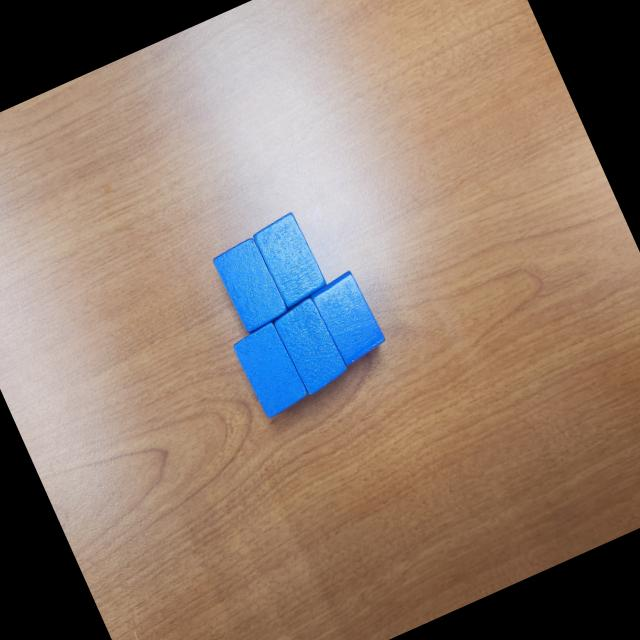blue: (270, 292, 354, 397), (230, 320, 314, 422), (250, 208, 332, 312), (308, 268, 390, 370), (210, 236, 292, 336)
